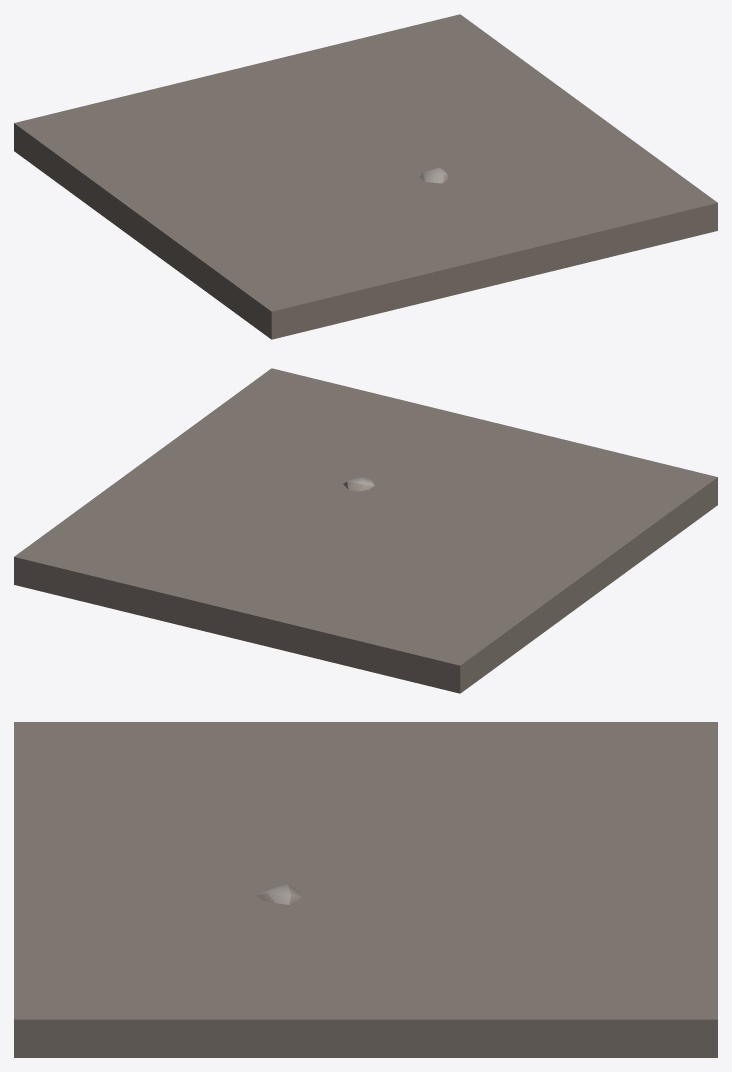
The model's file is floor_dirt_small_D.glb.
3 views of the same model, one above another, from view 1: azimuth 30°, elevation 25°; view 2: azimuth 150°, elevation 25°; view 3: azimuth 270°, elevation 25° (orthographic). The views are drawn at different scales.
Visible parts, largest first — view 1: floor_dirt_small_D; view 2: floor_dirt_small_D; view 3: floor_dirt_small_D.
Boxes of the visible parts, bbox=[...] form: floor_dirt_small_D: bbox=[14, 14, 717, 339]; floor_dirt_small_D: bbox=[14, 368, 717, 693]; floor_dirt_small_D: bbox=[14, 722, 717, 1057].
Bounding box in the file's own units: 2 × 0.1384 × 2.
Materials: 1 (1 with a texture image).
